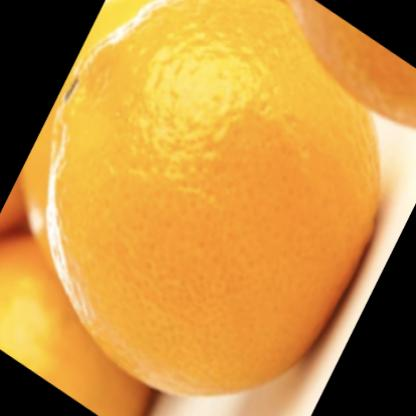fresh: (50, 1, 380, 393)
